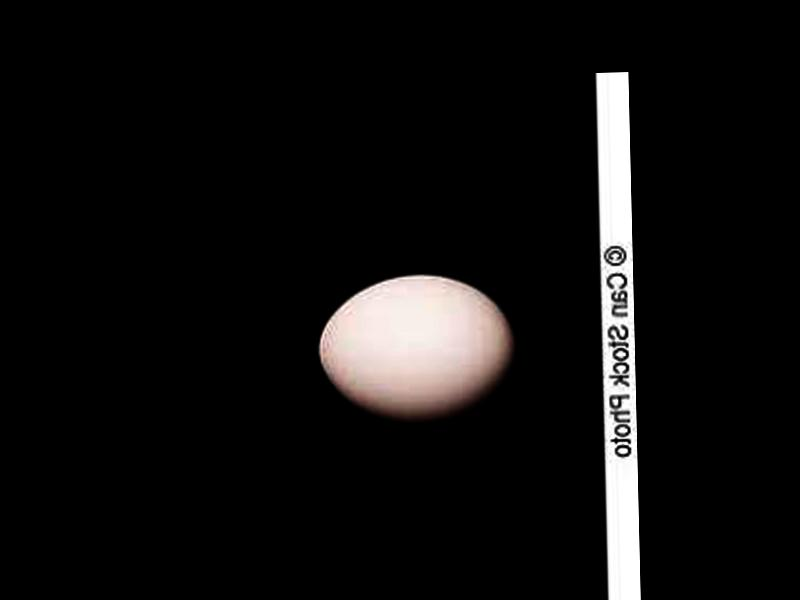Eggs: (316, 272, 520, 423)
